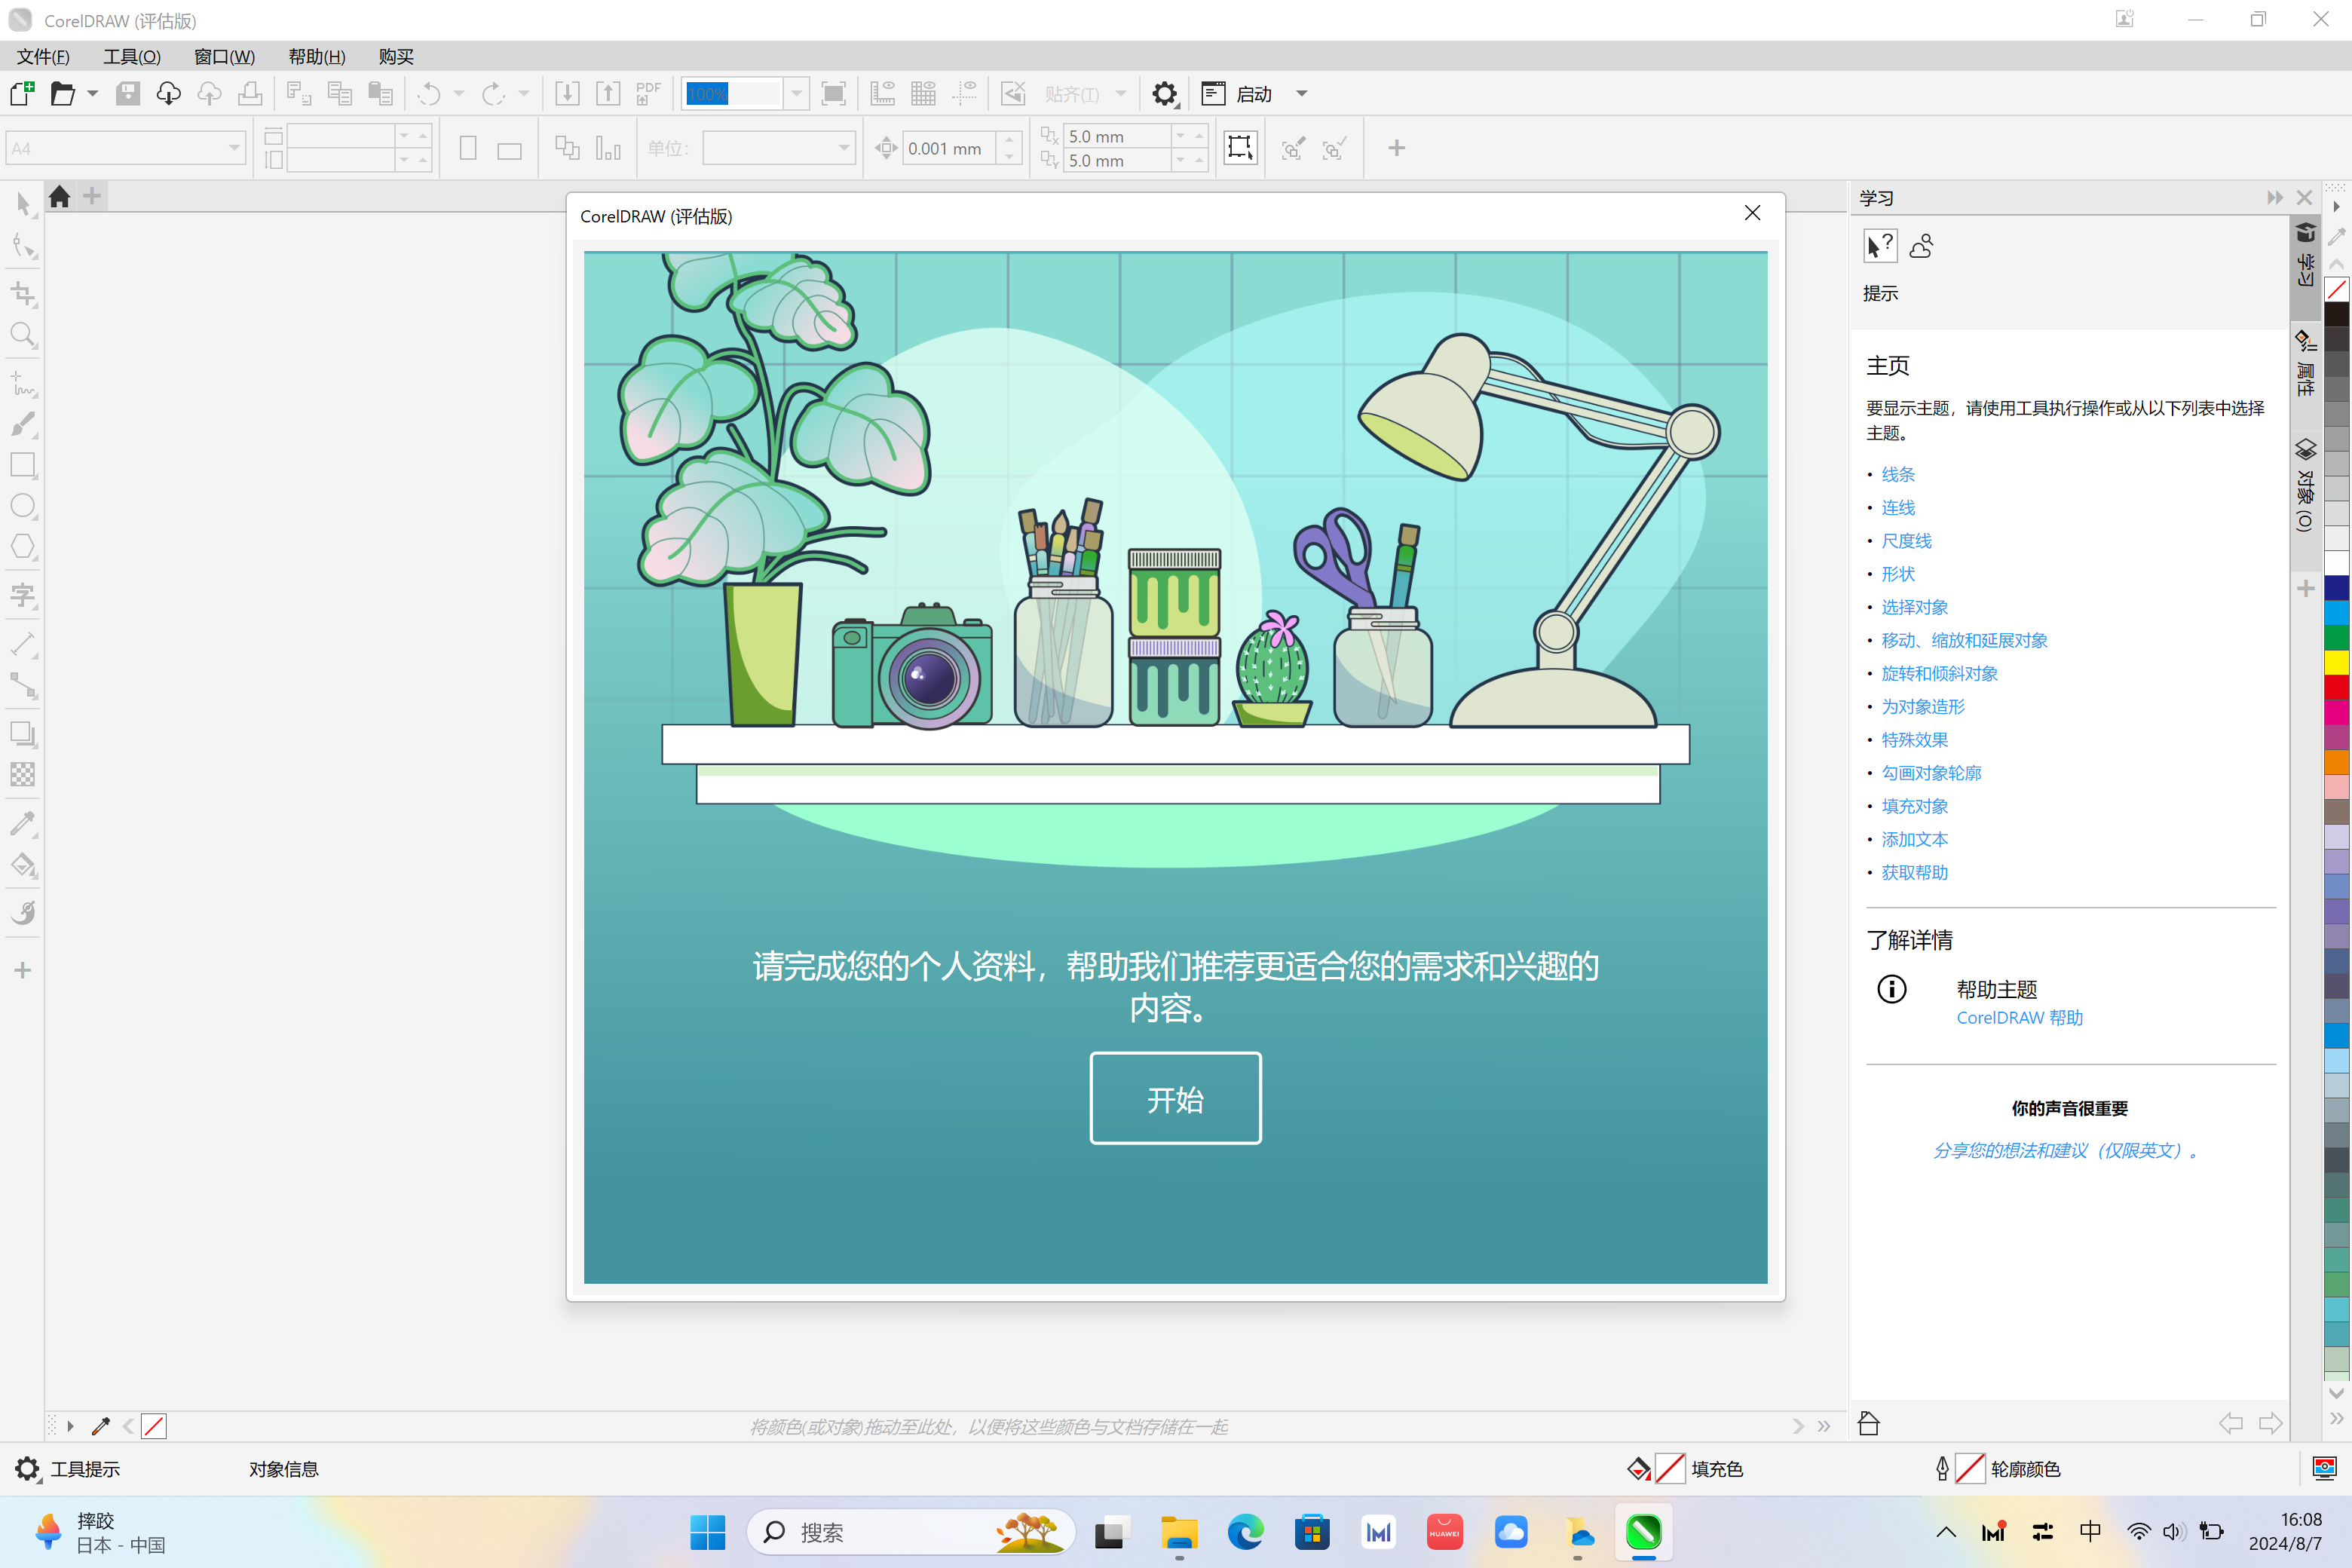clickable: (1008, 1027, 1356, 1097), (1474, 255, 1529, 289), (1339, 257, 1393, 285)
disabled: (1403, 255, 1459, 289)
level_0: (835, 290, 1533, 1256), (833, 250, 1531, 292)
root: (837, 255, 1531, 1253)
